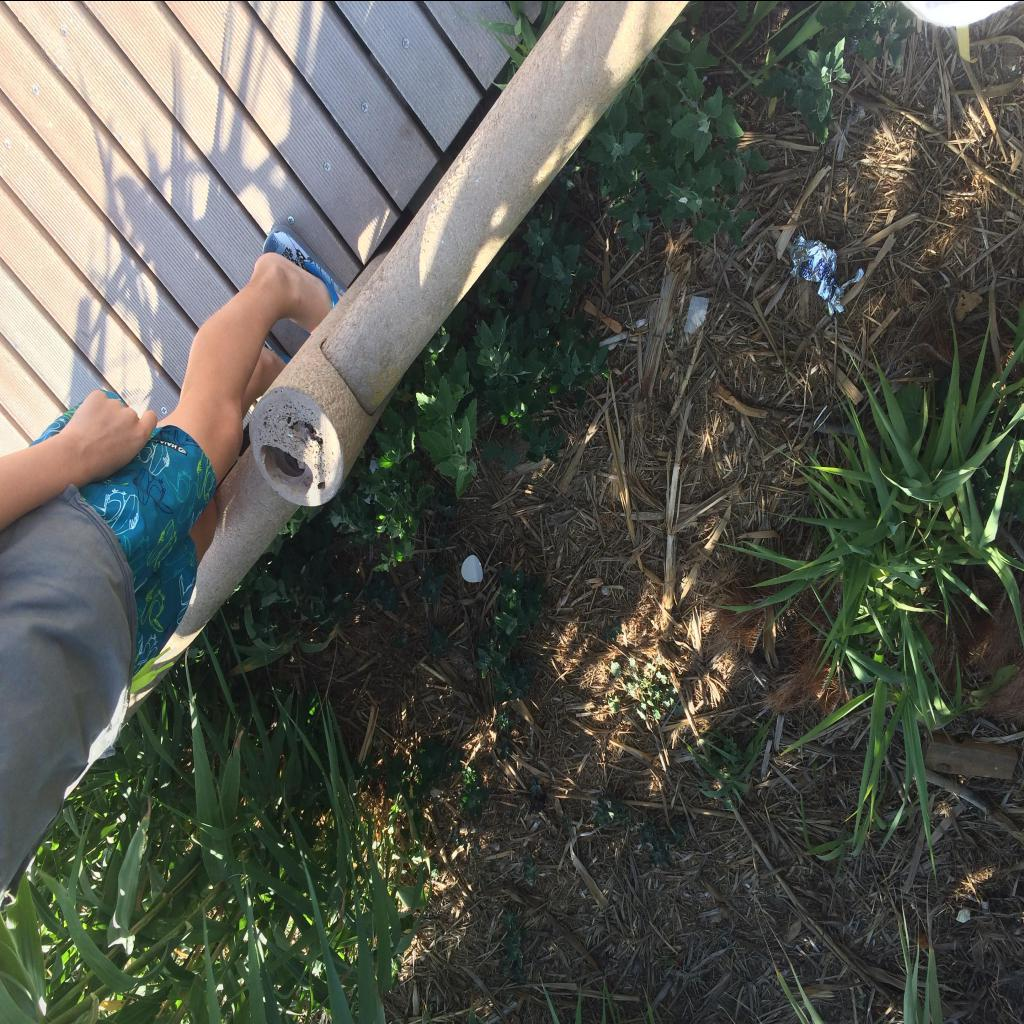Other plastic: (788, 234, 864, 314)
Plastic film: (684, 296, 710, 334)
Unlabeled litter: (461, 554, 483, 582)
